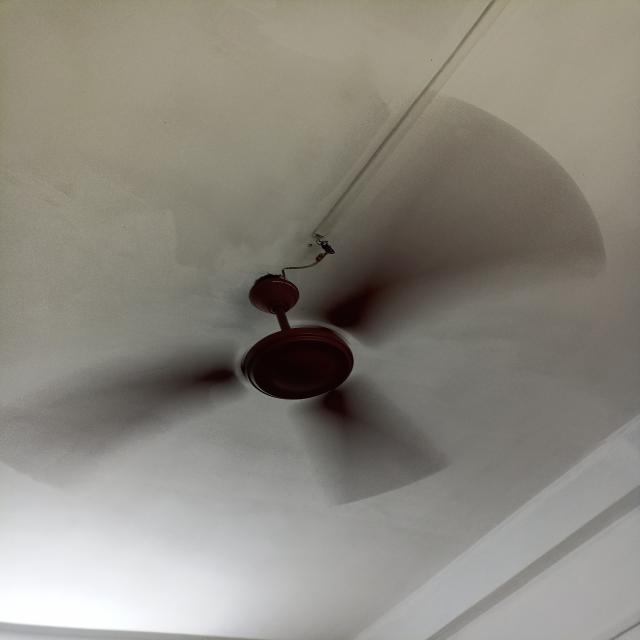fan: (2, 92, 636, 508)
